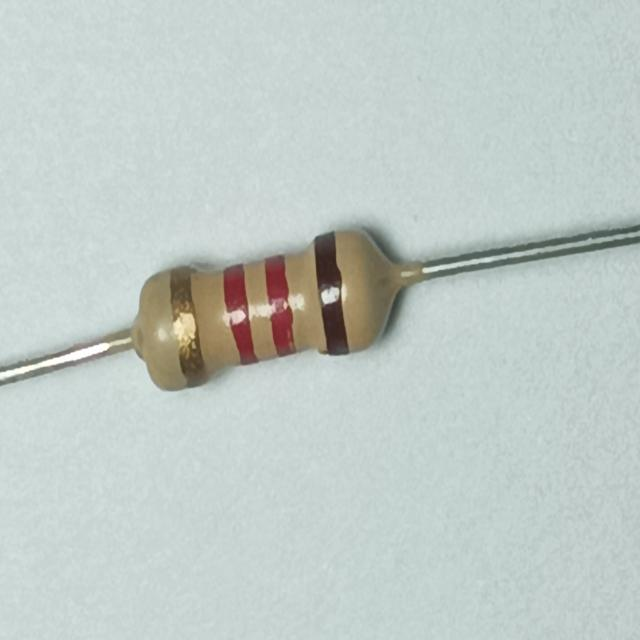1.2k ohms: (118, 217, 415, 403)
